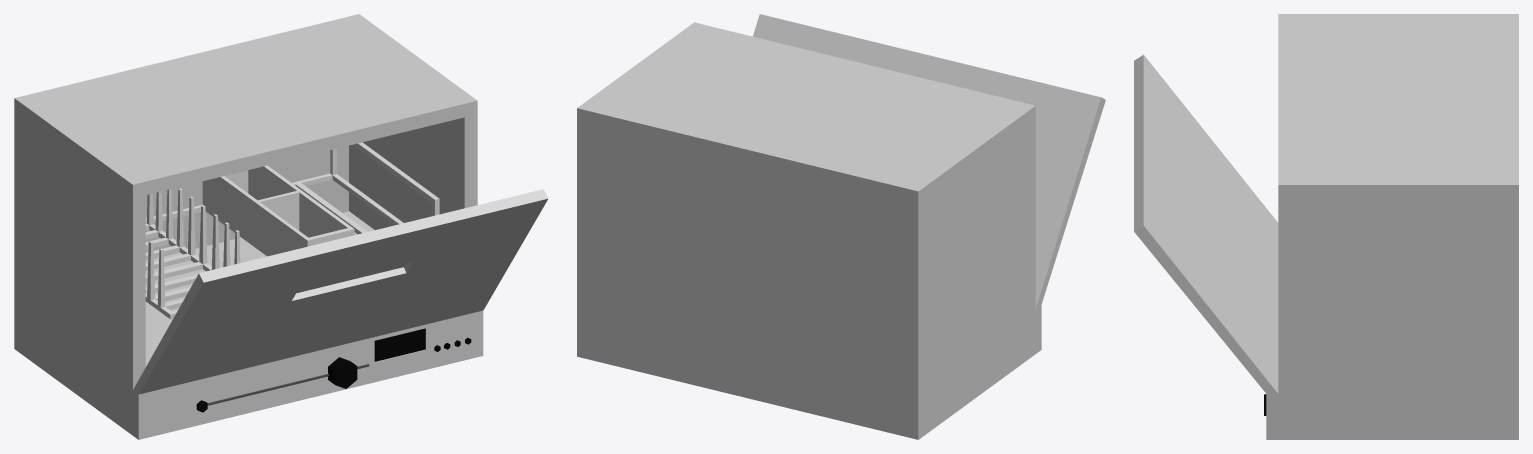
Rendered from C_Dishwasher.fbx.
3 renders of one model, left to right at view 1: azimuth 30°, elevation 25°; view 2: azimuth 150°, elevation 25°; view 3: azimuth 270°, elevation 25°, orthographic. The views are drawn at different scales.
Visible parts, largest first — view 1: C_Dishwasher; view 2: C_Dishwasher; view 3: C_Dishwasher.
Boxes of the visible parts, x1=… form: C_Dishwasher: x1=14, y1=14, x2=548, y2=439; C_Dishwasher: x1=577, y1=14, x2=1105, y2=439; C_Dishwasher: x1=1134, y1=14, x2=1518, y2=439.
Bounding box in the file's own units: 443 × 421 × 308.
